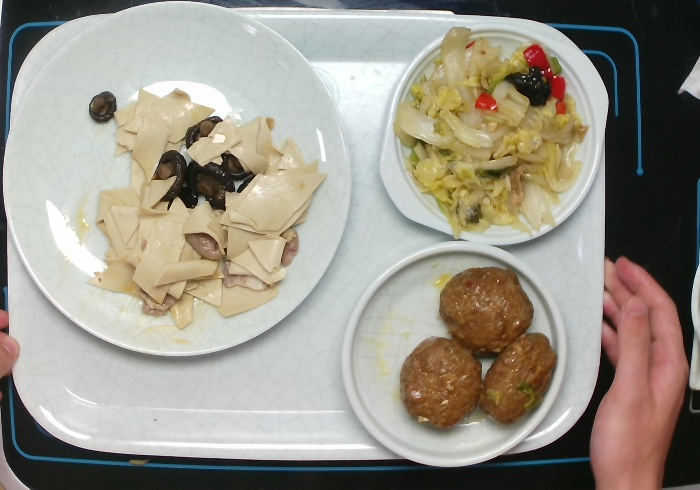JYsf-Da_Yuan_Pan: (2, 2, 358, 361)
JYsf-Shuang_Er_Pan: (368, 21, 610, 251)
JYsf-Xiao_Yuan_Pan: (336, 238, 571, 472)
